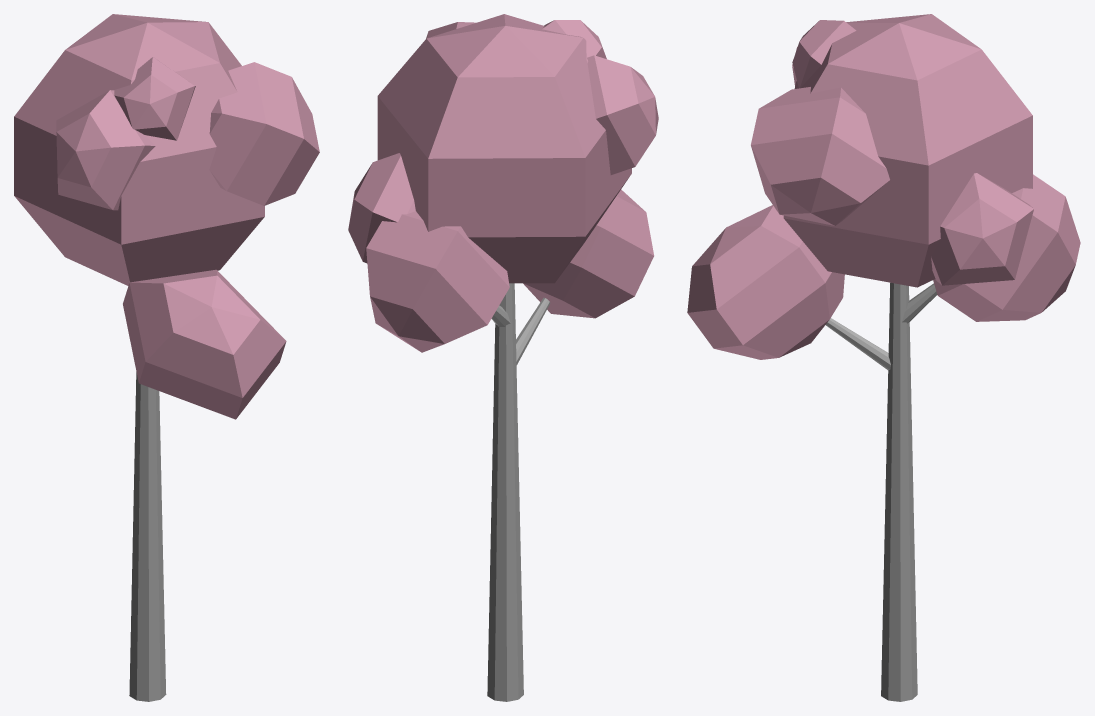
File: Lightpink_Tree.fbx
3 renders of one model, left to right at view 1: azimuth 30°, elevation 25°; view 2: azimuth 150°, elevation 25°; view 3: azimuth 270°, elevation 25°, orthographic.
Parts seen in each view (by area): view 1: pSphere1, pSphere7, pSphere2, pCone8, pSphere5, pSphere6; view 2: pSphere1, pSphere3, pCone8, pSphere7, pSphere5, pSphere4, pSphere6, pCone9; view 3: pSphere1, pSphere7, pSphere2, pCone8, pSphere3, pSphere4, pSphere6, pCone9.
Boxes of the visible parts, <box> form: pSphere1: <box>14,14,264,285</box>; pSphere7: <box>123,269,286,419</box>; pSphere2: <box>209,62,319,205</box>; pCone8: <box>129,372,166,701</box>; pSphere5: <box>56,90,155,210</box>; pSphere6: <box>114,57,195,140</box>; pSphere1: <box>377,14,631,283</box>; pSphere3: <box>366,211,509,352</box>; pCone8: <box>487,283,523,701</box>; pSphere7: <box>523,189,654,318</box>; pSphere5: <box>587,55,658,174</box>; pSphere4: <box>348,153,415,263</box>; pSphere6: <box>542,20,606,62</box>; pCone9: <box>516,297,550,364</box>; pSphere1: <box>783,14,1032,287</box>; pSphere7: <box>687,205,844,359</box>; pSphere2: <box>751,87,889,225</box>; pCone8: <box>881,282,937,701</box>; pSphere3: <box>933,174,1080,321</box>; pSphere4: <box>931,173,1033,285</box>; pSphere6: <box>792,20,856,88</box>; pCone9: <box>826,318,890,369</box>.
Size of the model in its own units: 3.77 by 9.81 by 5.21.
